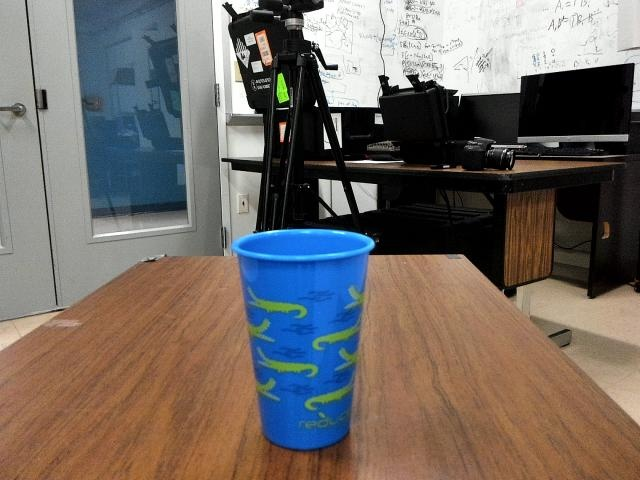water_cup: (230, 225, 378, 454)
